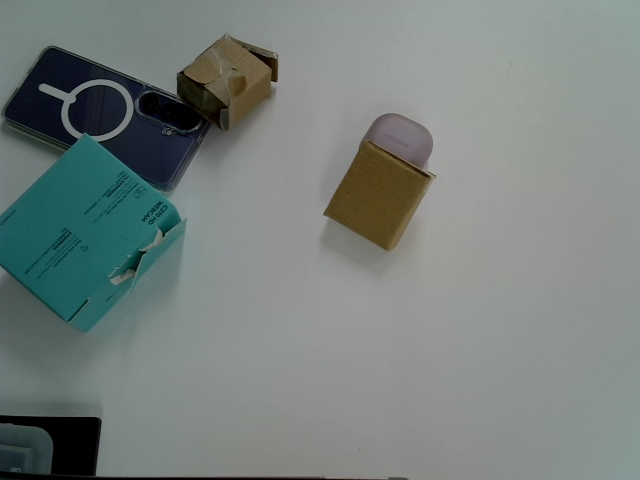defect: (177, 33, 281, 130)
normal: (322, 142, 433, 252)
